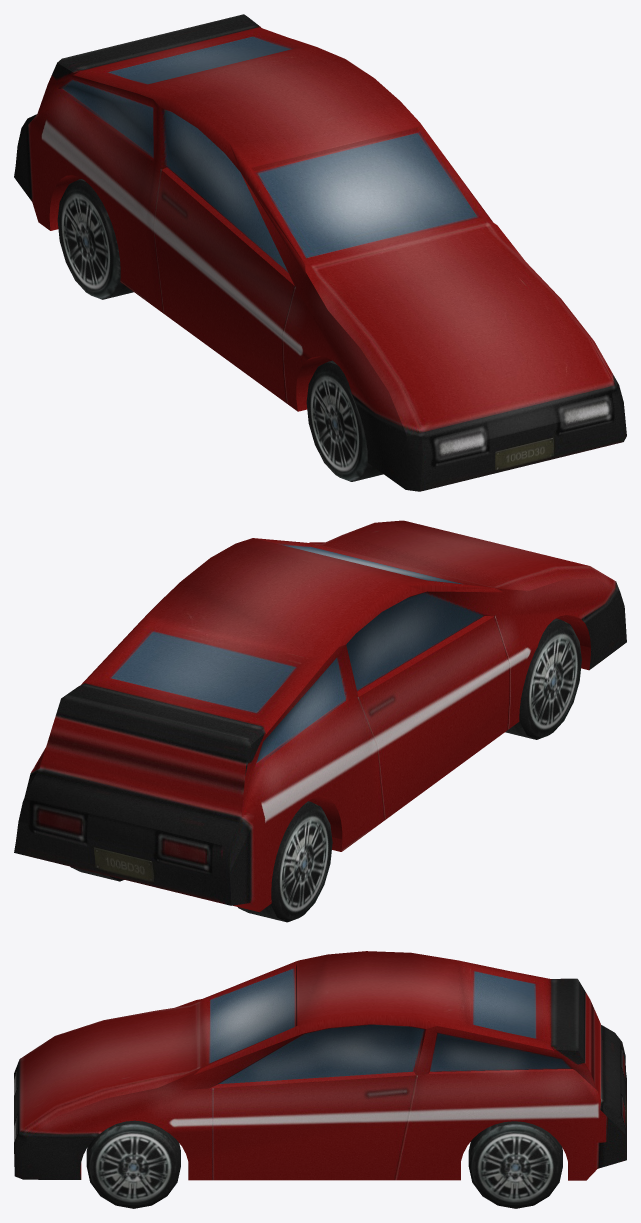
File: car.obj
3 views of the same model, one above another, from view 1: azimuth 30°, elevation 25°; view 2: azimuth 150°, elevation 25°; view 3: azimuth 270°, elevation 25° (orthographic). The views are drawn at different scales.
Parts seen in each view (by area): view 1: car; view 2: car; view 3: car.
Part boxes in pixels (left/top/right/bottom): car: left=14, top=14, right=626, bottom=491; car: left=14, top=520, right=626, bottom=922; car: left=14, top=951, right=626, bottom=1208.
Size of the model in its own units: 250 by 255 by 759.
Materials: 1 (1 with a texture image).
